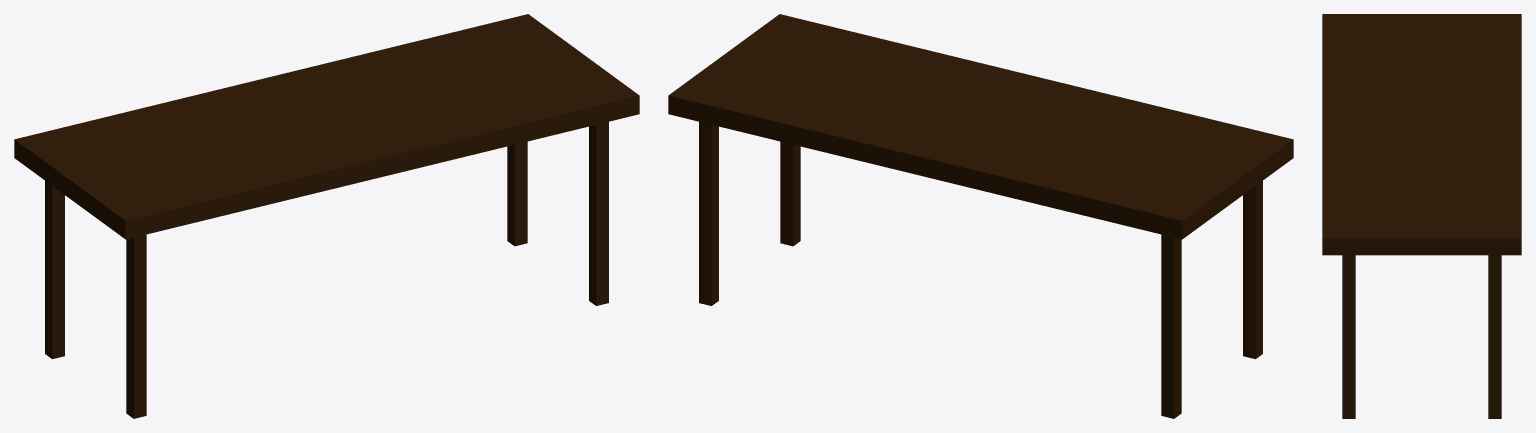
The model's file is table.fbx.
3 views of the same model, side by side, from view 1: azimuth 30°, elevation 25°; view 2: azimuth 150°, elevation 25°; view 3: azimuth 270°, elevation 25° (orthographic). The views are drawn at different scales.
Visible parts, largest first — view 1: Cube; view 2: Cube; view 3: Cube.
Boxes of the visible parts, x1,y1,x2,y2 form: Cube: [14, 14, 639, 418]; Cube: [668, 14, 1293, 418]; Cube: [1322, 14, 1521, 418].
Bounding box in the file's own units: 200 × 78.5 × 75.
